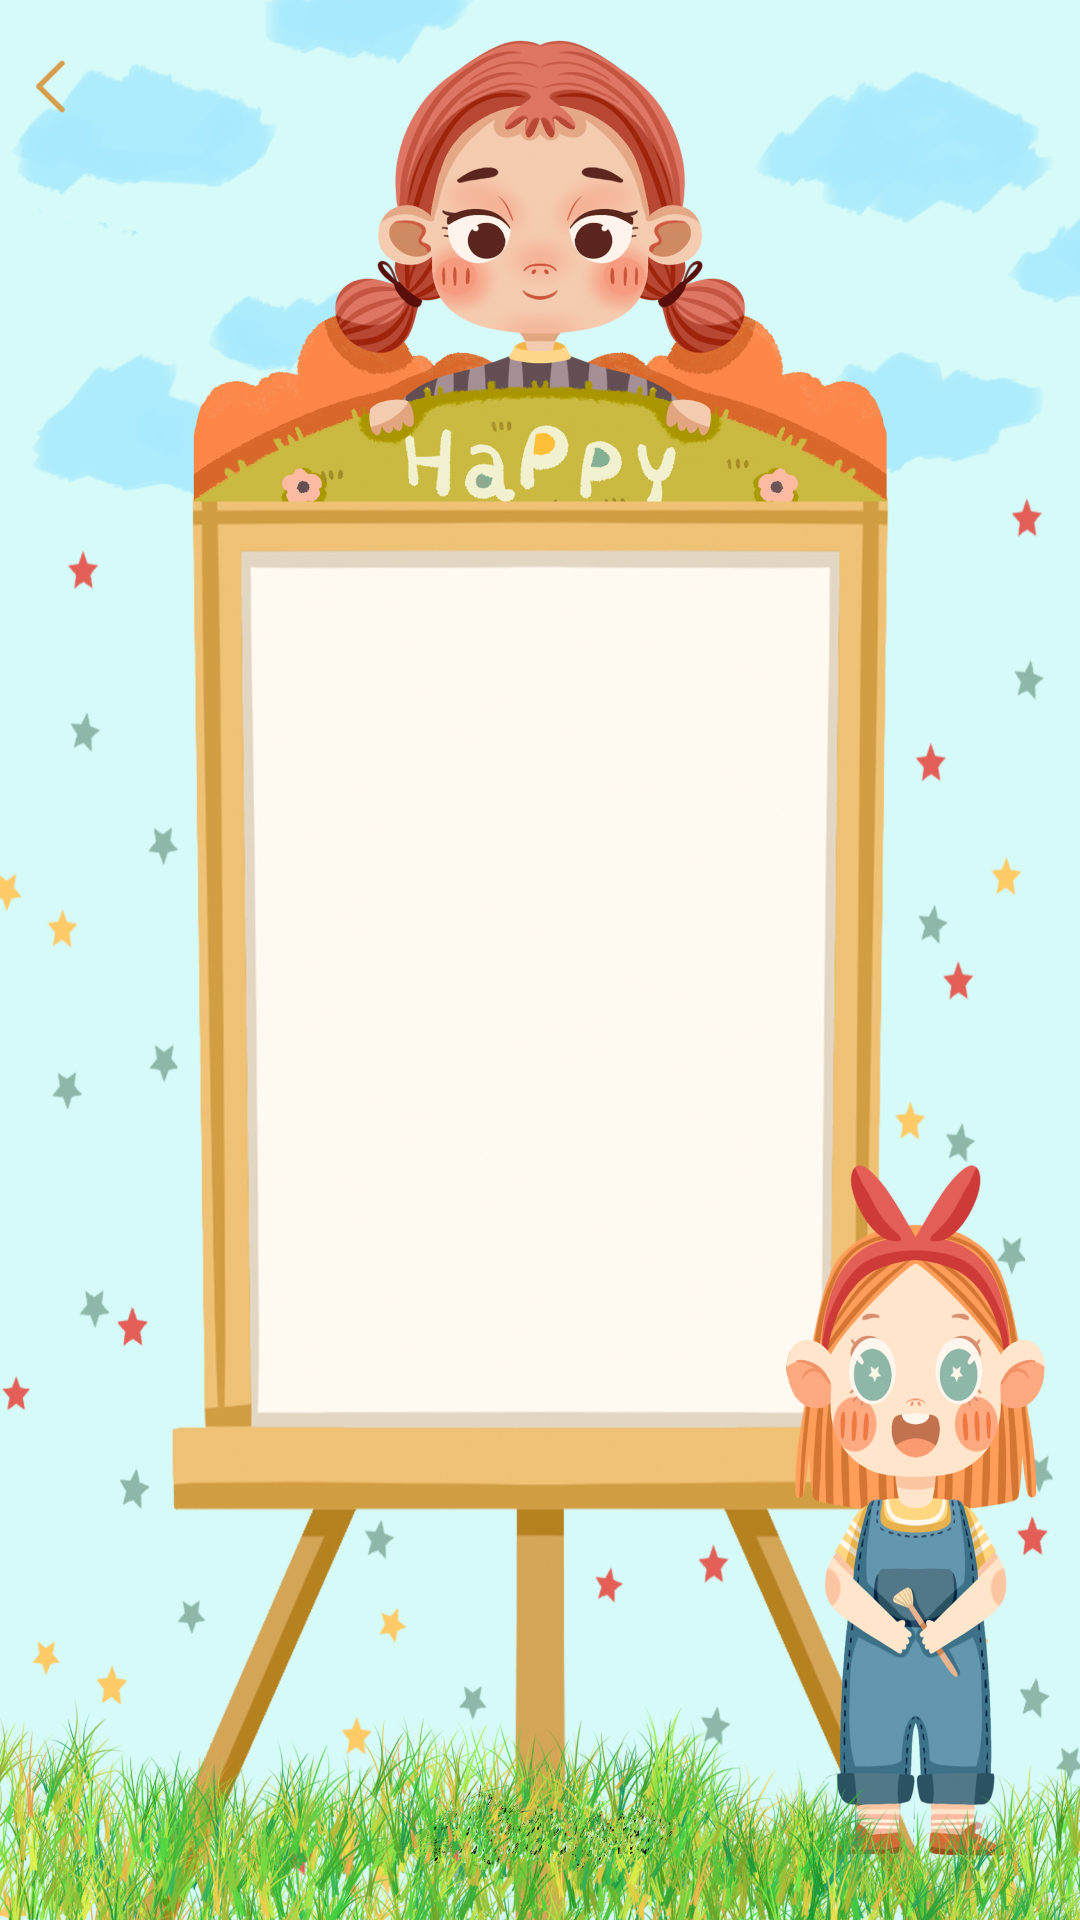

Icons on this 1080*1920 Android screen, each with the point to tap as (x=x, y=y):
back: (x=57, y=87)
